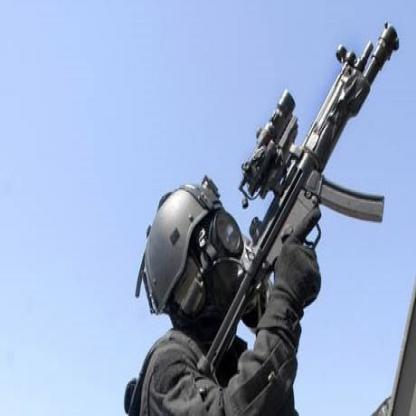Gun: (176, 14, 414, 406)
